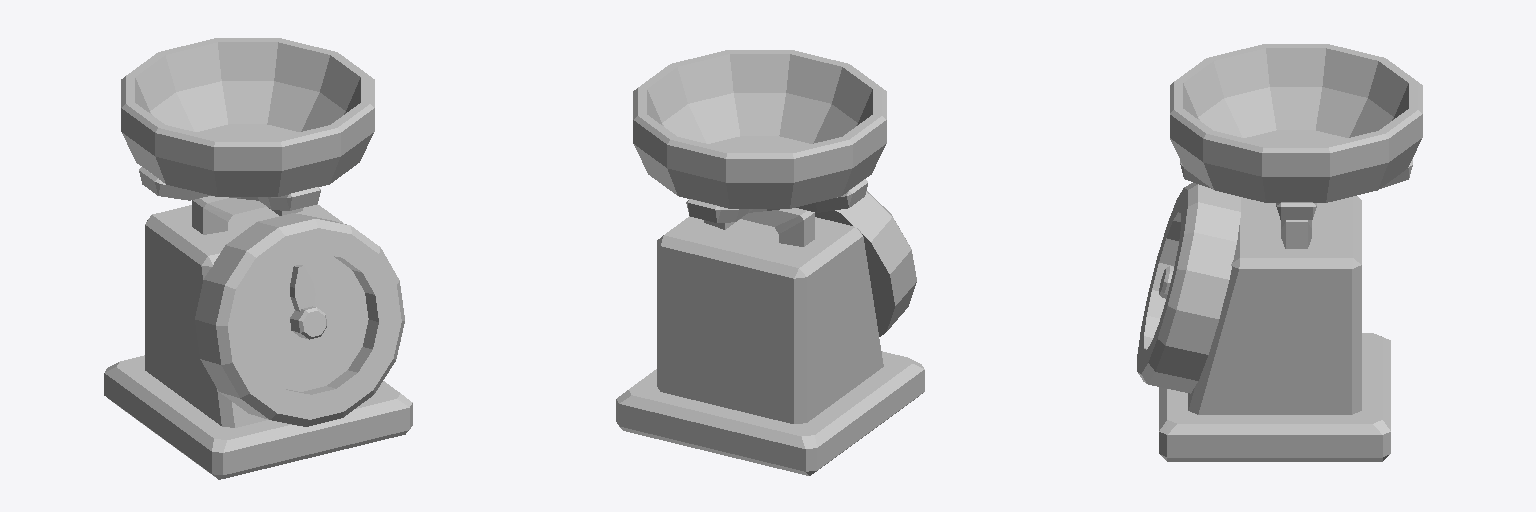
Rendered from scale.obj.
3 renders of one model, left to right at view 1: azimuth 30°, elevation 25°; view 2: azimuth 150°, elevation 25°; view 3: azimuth 270°, elevation 25°, orthographic.
Parts seen in each view (by area): view 1: scale; view 2: scale; view 3: scale.
Boxes of the visible parts, <box> form: scale: <box>104,38,412,479</box>; scale: <box>616,50,924,475</box>; scale: <box>1137,44,1422,461</box>.
Size of the model in its own units: 0.6 by 0.8375 by 0.6763.